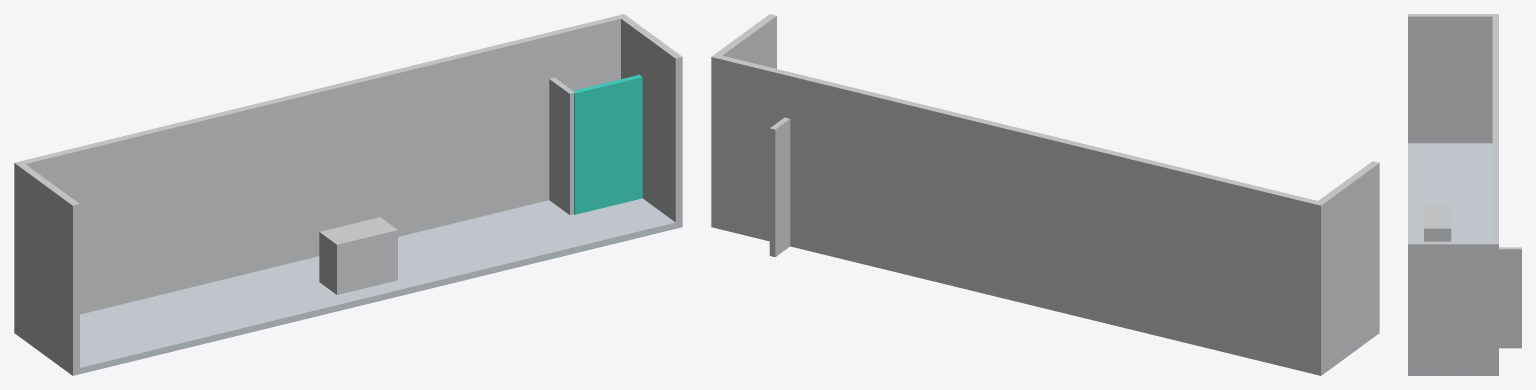
3 views of the same model, side by side, from view 1: azimuth 30°, elevation 25°; view 2: azimuth 150°, elevation 25°; view 3: azimuth 270°, elevation 25° (orthographic). The views are drawn at different scales.
Visible parts, largest first — view 1: Exhibition Booth Concept; view 2: Exhibition Booth Concept; view 3: Exhibition Booth Concept.
Part boxes in pixels (<box>): Exhibition Booth Concept: <box>14,14,682,375</box>; Exhibition Booth Concept: <box>711,14,1379,375</box>; Exhibition Booth Concept: <box>1408,14,1521,375</box>.
Size of the model in its own units: 12 by 3.2 by 2.5.
